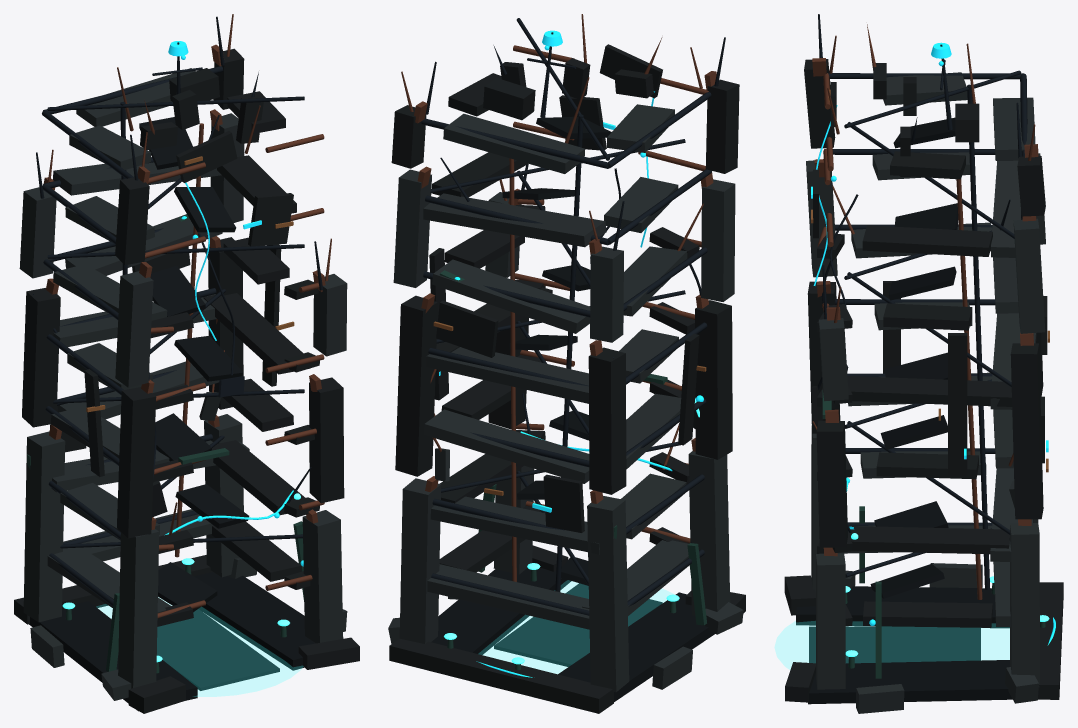
The model's file is tower-ruin.glb.
3 renders of one model, left to right at view 1: azimuth 30°, elevation 25°; view 2: azimuth 150°, elevation 25°; view 3: azimuth 270°, elevation 25°, orthographic. The views are drawn at different scales.
Visible parts, largest first — view 1: SubtleCyanGlowHaloAtOpenBase, RearLeftConcretePierSegment1, FrontLeftConcretePierSegment1, VisibleOpenPassageFloorShadow, RightAshConcreteFooting_NotBlockingRoute, FrontLeftConcretePierSegment2, FrontRightConcretePierSegment1, RearLeftConcretePierSegment2, FrontRightConcretePierSegment2, LeftAshConcreteFooting_NotBlockingRoute, FrontLeftConcretePierSegment3, Level04_RightSideFloorTongue (+61 smaller); view 2: RearLeftConcretePierSegment1, RearBrokenFoundationRim, RearRightConcretePierSegment2, RearRightConcretePierSegment1, FrontLeftConcretePierSegment2, RearLeftConcretePierSegment2, FrontLeftConcretePierSegment1, SubtleCyanGlowHaloAtOpenBase, LeftAshConcreteFooting_NotBlockingRoute, Level03_RearSpanningSlabWithBiteMarks, Level06_RearSpanningSlabWithBiteMarks, Level05_RearSpanningSlabWithBiteMarks (+66 smaller); view 3: SubtleCyanGlowHaloAtOpenBase, RightAshConcreteFooting_NotBlockingRoute, RearRightConcretePierSegment2, VisibleOpenPassageFloorShadow, RearRightConcretePierSegment1, FrontRightConcretePierSegment1, Level02_RightSideFloorTongue, FrontRightConcretePierSegment2, Level04_RightSideFloorTongue, Level06_RightSideFloorTongue, Level01_RightSideFloorTongue, RearRightConcretePierSegment3 (+52 smaller).
Part boxes in pixels (x1,y1,x2,y2): SubtleCyanGlowHaloAtOpenBase: (96, 597, 303, 696); RearLeftConcretePierSegment1: (23, 431, 65, 622); FrontLeftConcretePierSegment1: (118, 529, 159, 688); VisibleOpenPassageFloorShadow: (157, 609, 279, 690); RightAshConcreteFooting_NotBlockingRoute: (194, 572, 315, 670); FrontLeftConcretePierSegment2: (117, 387, 156, 538); FrontRightConcretePierSegment1: (302, 510, 343, 643); RearLeftConcretePierSegment2: (22, 288, 60, 427); FrontRightConcretePierSegment2: (309, 377, 344, 503); LeftAshConcreteFooting_NotBlockingRoute: (29, 601, 197, 711); FrontLeftConcretePierSegment3: (115, 271, 153, 387); Level04_RightSideFloorTongue: (203, 293, 303, 374); RearLeftConcretePierSegment1: (587, 496, 629, 692); RearBrokenFoundationRim: (389, 638, 613, 713); RearRightConcretePierSegment2: (395, 295, 437, 476); RearRightConcretePierSegment1: (399, 478, 441, 643); FrontLeftConcretePierSegment2: (695, 300, 732, 459); RearLeftConcretePierSegment2: (588, 347, 626, 494); FrontLeftConcretePierSegment1: (688, 451, 730, 615); SubtleCyanGlowHaloAtOpenBase: (479, 580, 673, 673); LeftAshConcreteFooting_NotBlockingRoute: (558, 592, 714, 701); Level03_RearSpanningSlabWithBiteMarks: (423, 409, 589, 483); Level06_RearSpanningSlabWithBiteMarks: (423, 193, 606, 247); Level05_RearSpanningSlabWithBiteMarks: (432, 259, 590, 333); SubtleCyanGlowHaloAtOpenBase: (775, 621, 1009, 669); RightAshConcreteFooting_NotBlockingRoute: (808, 660, 1012, 704); RearRightConcretePierSegment2: (1010, 343, 1043, 519); VisibleOpenPassageFloorShadow: (809, 626, 980, 663); RearRightConcretePierSegment1: (1010, 523, 1039, 687); FrontRightConcretePierSegment1: (815, 553, 845, 689); Level02_RightSideFloorTongue: (848, 526, 1009, 554); FrontRightConcretePierSegment2: (816, 420, 847, 547); Level04_RightSideFloorTongue: (847, 376, 1012, 406); Level06_RightSideFloorTongue: (862, 225, 992, 256); Level01_RightSideFloorTongue: (863, 601, 992, 627); RearRightConcretePierSegment3: (1013, 218, 1045, 333).
Bounding box in the file's own units: 4.12 × 8.96 × 3.87.
